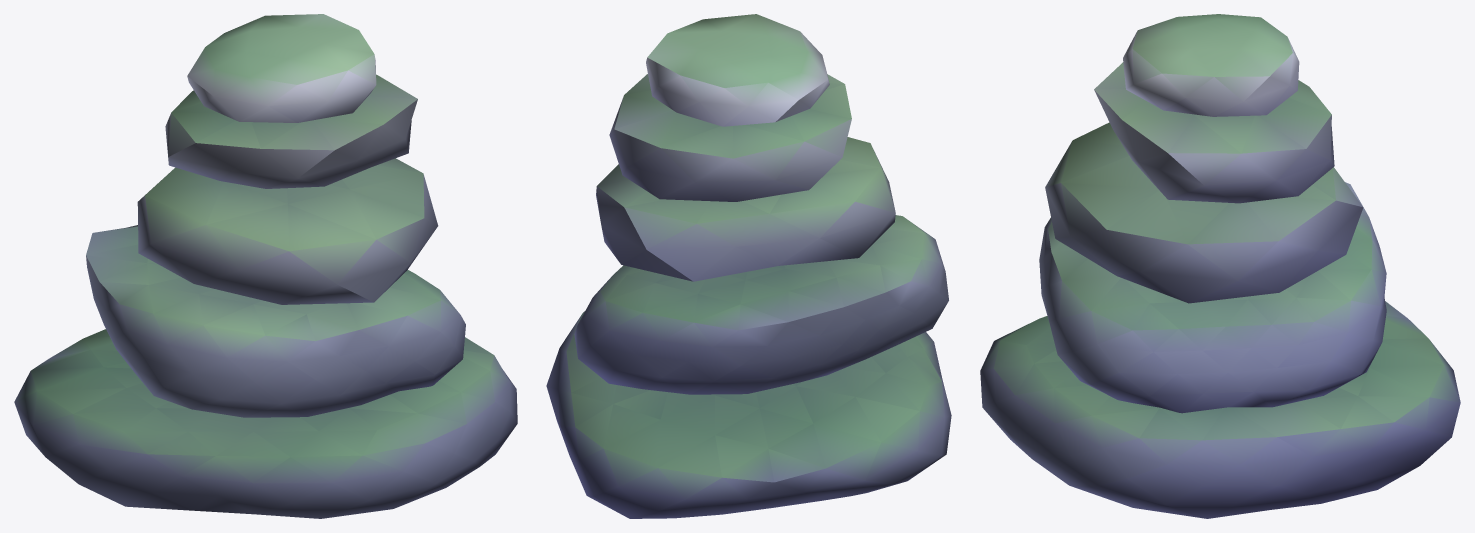
Rendered from hub_rock_cairn_a.glb.
The picture shows the model from 3 angles, left to right: view 1: azimuth 30°, elevation 25°; view 2: azimuth 150°, elevation 25°; view 3: azimuth 270°, elevation 25°; orthographic projection. The views are drawn at different scales.
Visible parts, largest first — view 1: hub_rock_cairn_a; view 2: hub_rock_cairn_a; view 3: hub_rock_cairn_a.
Part boxes in pixels (<box>): hub_rock_cairn_a: <box>14,14,517,518</box>; hub_rock_cairn_a: <box>546,14,951,518</box>; hub_rock_cairn_a: <box>980,14,1460,518</box>.
Bounding box in the file's own units: 1.18 × 1.16 × 1.2.
